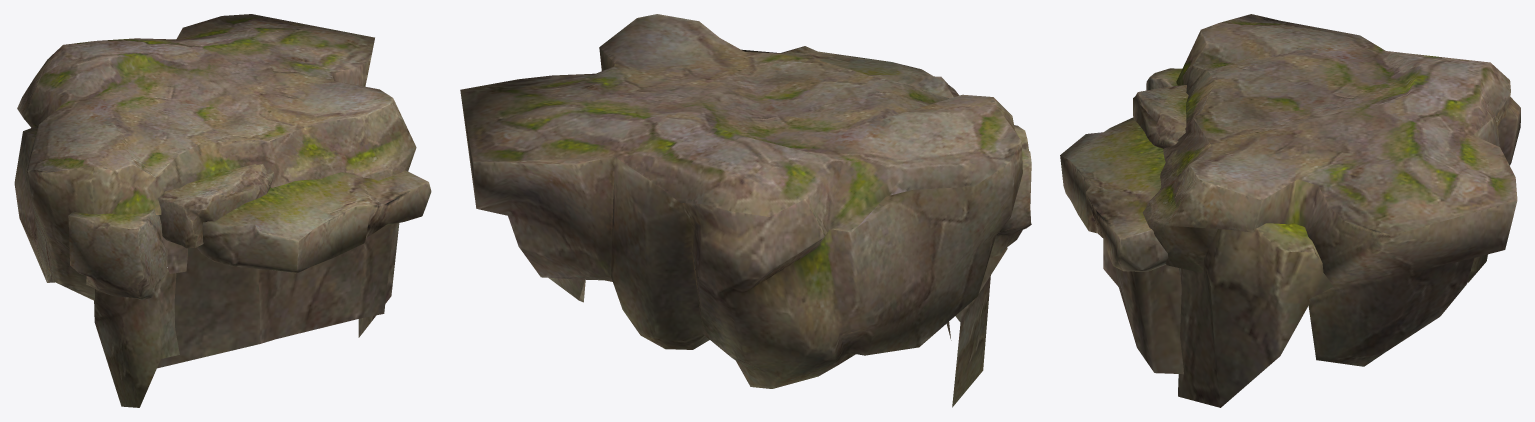
File: m_shitou_05.FBX
3 views of the same model, side by side, from view 1: azimuth 30°, elevation 25°; view 2: azimuth 150°, elevation 25°; view 3: azimuth 270°, elevation 25° (orthographic). The views are drawn at different scales.
Parts seen in each view (by area): view 1: m_shitou_05; view 2: m_shitou_05; view 3: m_shitou_05.
Boxes of the visible parts, x1,y1,x2,y2 form: m_shitou_05: (14, 14, 431, 407); m_shitou_05: (460, 14, 1031, 407); m_shitou_05: (1060, 14, 1520, 407).
Size of the model in its own units: 350 by 223 by 317.
